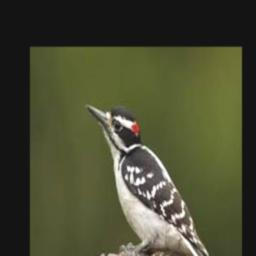Woodpecker: (86, 103, 212, 256)
